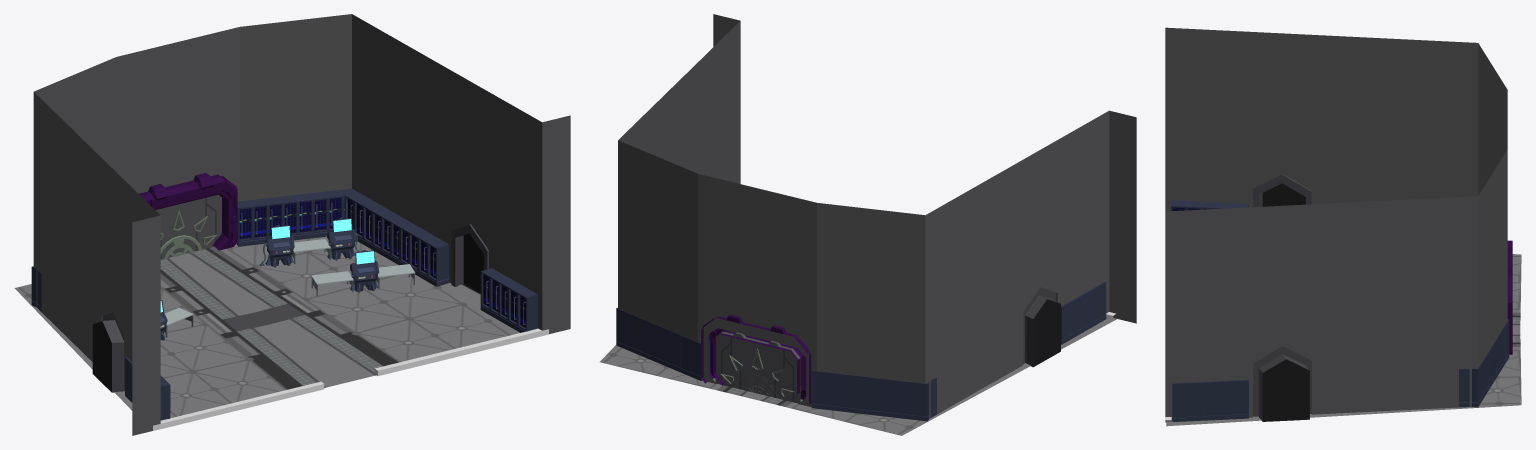
File: Computer Server Room.fbx
The picture shows the model from 3 angles, left to right: view 1: azimuth 30°, elevation 25°; view 2: azimuth 150°, elevation 25°; view 3: azimuth 270°, elevation 25°; orthographic projection. The views are drawn at different scales.
Parts seen in each view (by area): view 1: Plane.013, Plane, Cube.003, Cube.011, Plane.014, Cube.012, Door Panel, Plane.017, Gate Frame, Cube.001, Cube.005, Cube.013 (+1 smaller); view 2: Plane.013, Cube.011, Door Panel, Plane, Plane.014, Gate Frame, Cube.012; view 3: Plane.013, Plane.014, Cube.012, Plane, Cube.011, Gate Frame, Cube.003.
Part boxes in pixels (<box>): Plane.013: <box>33,14,570,435</box>; Plane: <box>14,236,519,418</box>; Cube.003: <box>37,191,449,311</box>; Cube.011: <box>31,188,356,306</box>; Plane.014: <box>92,224,488,392</box>; Cube.012: <box>125,268,537,420</box>; Door Panel: <box>155,195,221,259</box>; Plane.017: <box>153,328,548,430</box>; Gate Frame: <box>138,173,237,250</box>; Cube.001: <box>160,250,379,340</box>; Cube.005: <box>259,225,294,267</box>; Cube.013: <box>327,218,359,260</box>; Plane.013: <box>618,14,1136,418</box>; Cube.011: <box>616,307,929,421</box>; Door Panel: <box>715,331,800,403</box>; Plane: <box>599,318,1116,435</box>; Plane.014: <box>1023,287,1060,367</box>; Gate Frame: <box>701,314,811,404</box>; Cube.012: <box>1061,281,1106,344</box>; Plane.013: <box>1165,27,1507,422</box>; Plane.014: <box>1253,174,1311,421</box>; Cube.012: <box>1171,200,1248,421</box>; Plane: <box>1166,254,1521,426</box>; Cube.011: <box>1472,319,1509,407</box>; Gate Frame: <box>1507,240,1512,354</box>; Cube.003: <box>1459,369,1469,407</box>.
Size of the model in its own units: 25.45 by 12.16 by 18.15.
